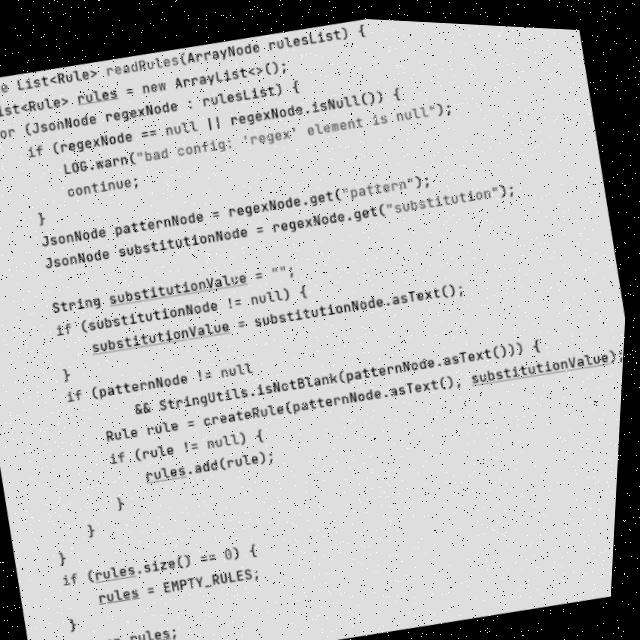code_screen: (0, 19, 625, 640)
